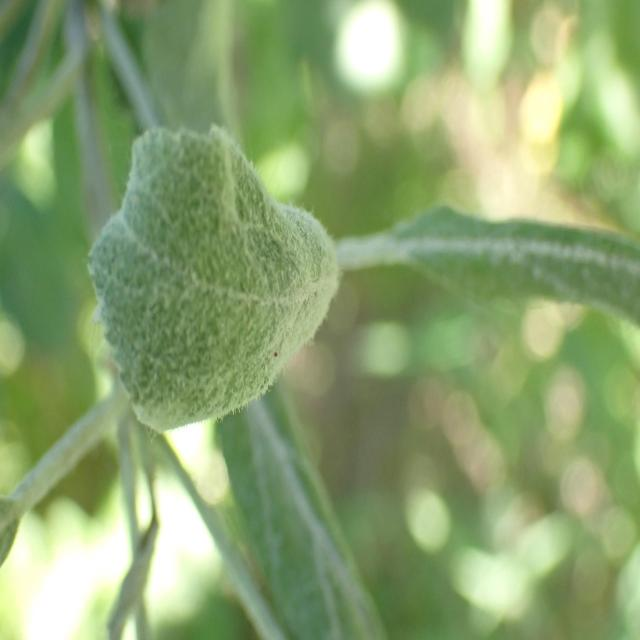Powdery_mildew: (62, 96, 332, 411), (360, 189, 640, 354)
